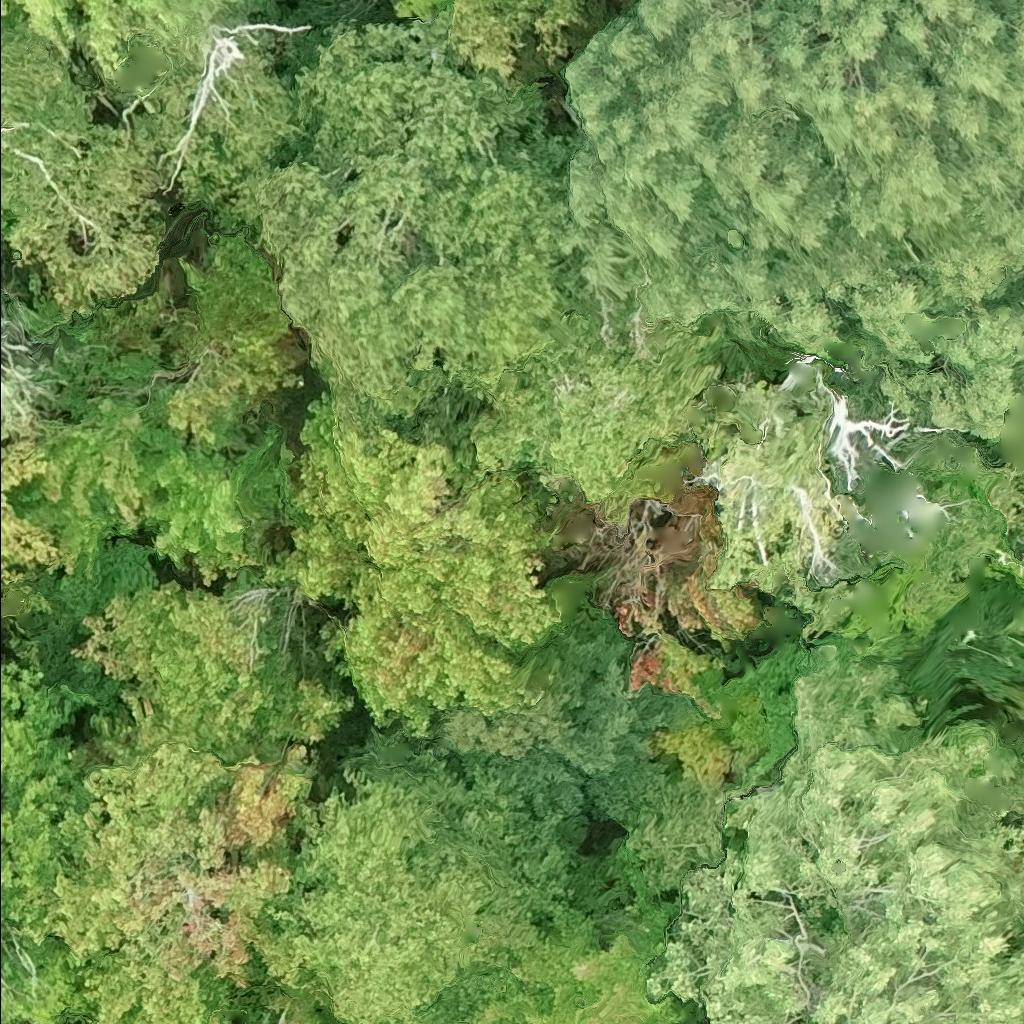crown: (0, 11, 167, 310), (0, 660, 113, 1023), (0, 422, 73, 601), (0, 0, 165, 74)
